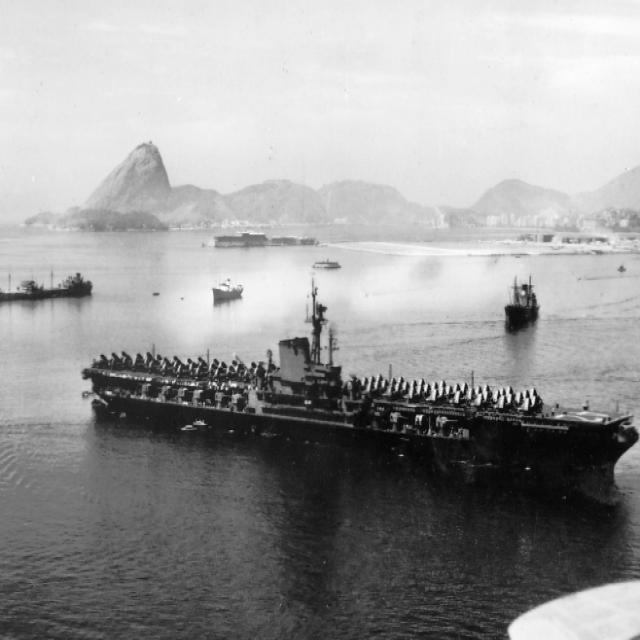Portanaves: (84, 271, 640, 507)
